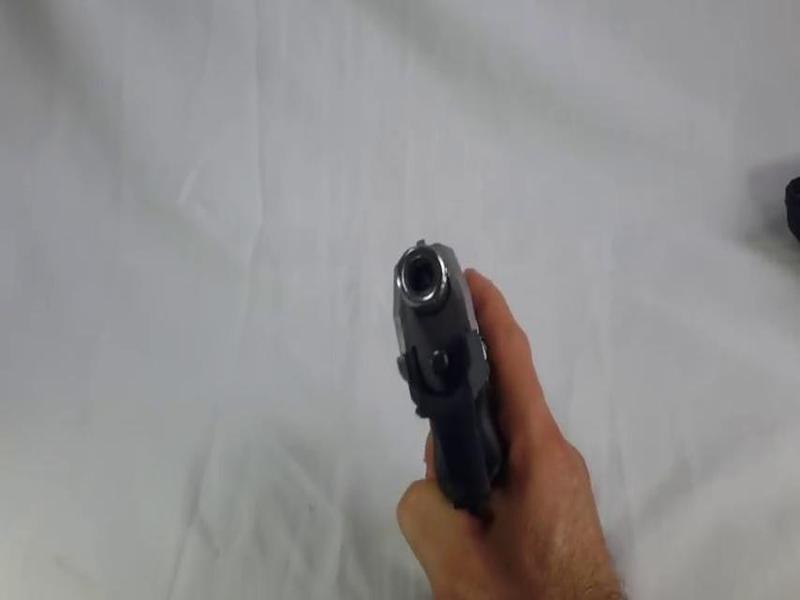Pistola: (351, 191, 562, 550)
